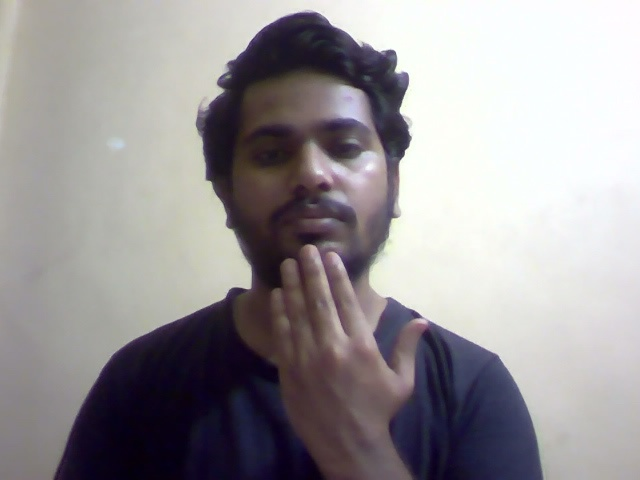Thankyou: (177, 4, 440, 442)
